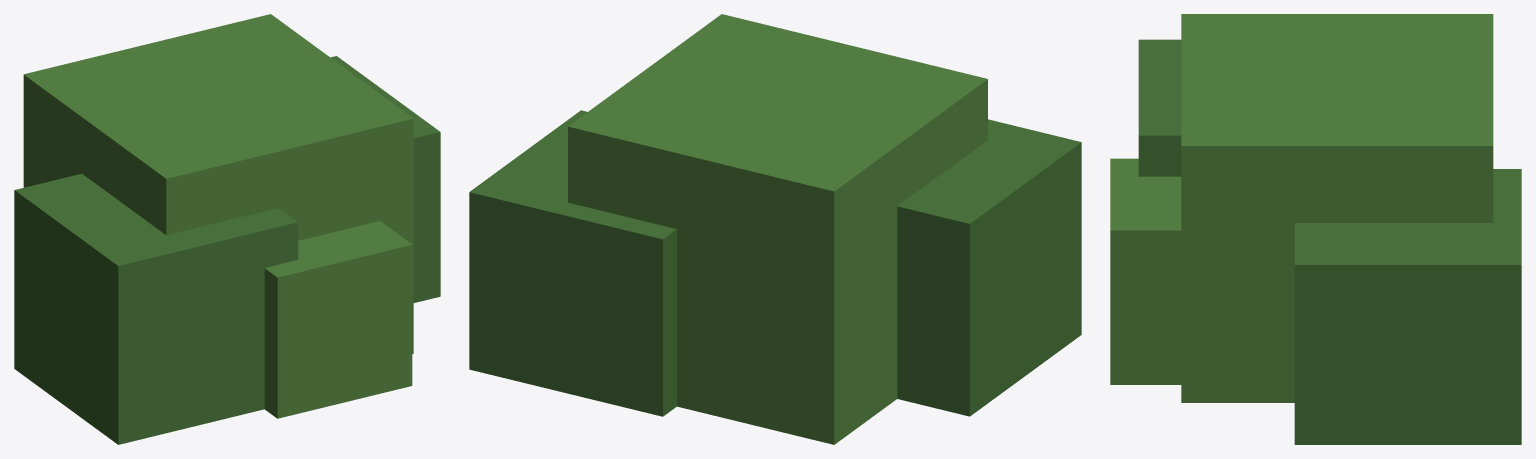
File: bush.glb
3 renders of one model, left to right at view 1: azimuth 30°, elevation 25°; view 2: azimuth 150°, elevation 25°; view 3: azimuth 270°, elevation 25°, orthographic. The views are drawn at different scales.
Visible parts, largest first — view 1: Bush; view 2: Bush; view 3: Bush.
Boxes of the visible parts, x1=… form: Bush: x1=14, y1=14, x2=440, y2=444; Bush: x1=469, y1=14, x2=1081, y2=444; Bush: x1=1110, y1=14, x2=1521, y2=444.
Size of the model in its own units: 1.75 by 1 by 1.45.
